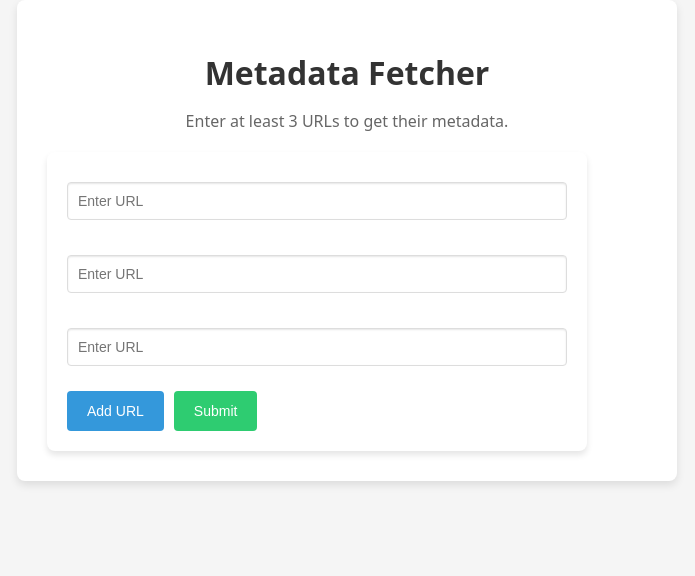
it: MetadataForm Component › adds a new URL input field when "Add URL" button is clicked
Click the button "Add URL" at [115, 411], box [67, 391, 164, 431]
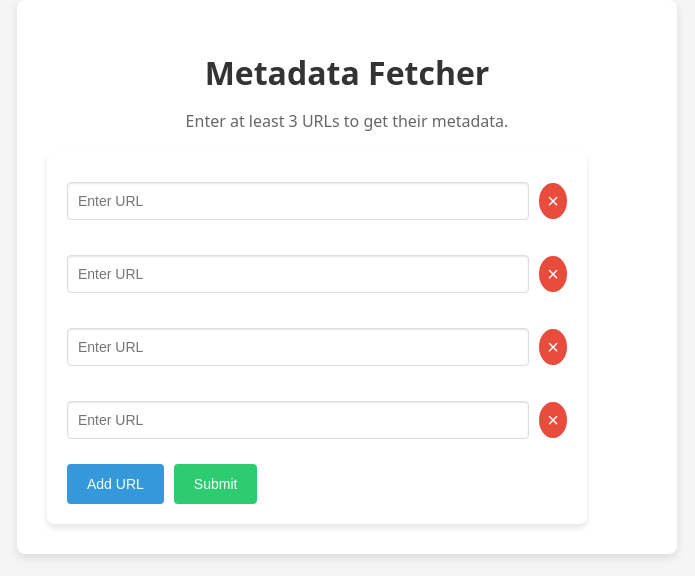
Result: the number of fields with placeholder "Enter URL" is 4 at [67, 182, 529, 220]; [67, 255, 529, 293]; [67, 328, 529, 366]; [67, 401, 529, 439]
